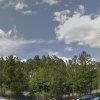Tree: (15, 42, 100, 100)
